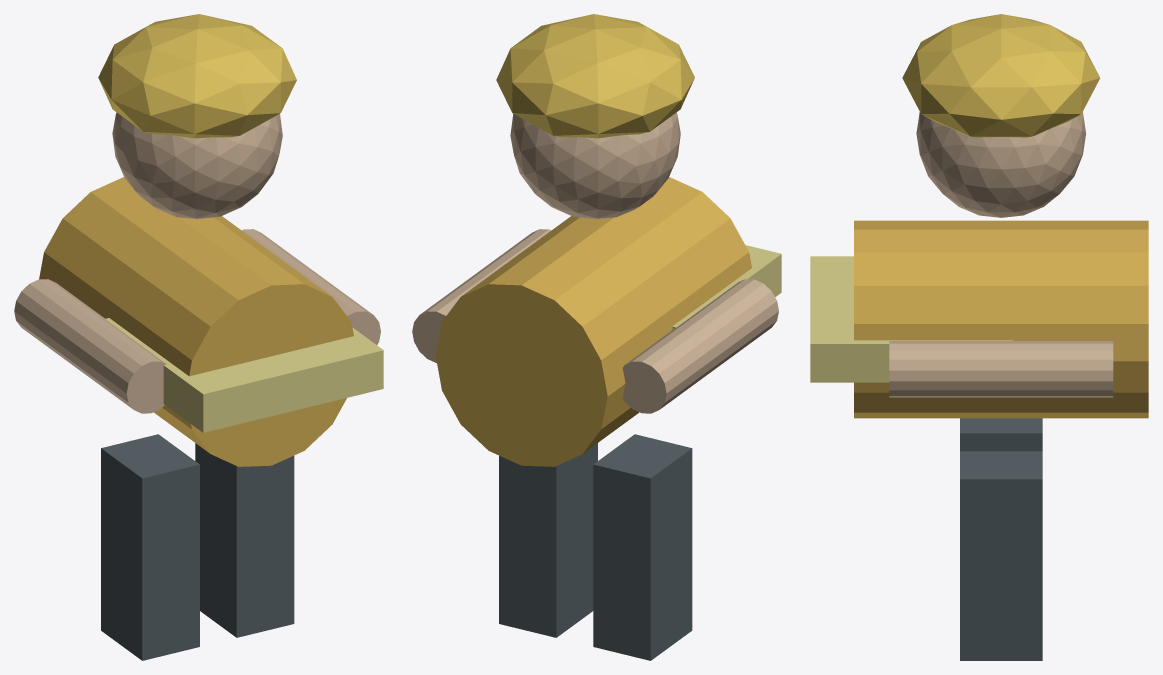
Rendered from worker.glb.
The picture shows the model from 3 angles, left to right: view 1: azimuth 30°, elevation 25°; view 2: azimuth 150°, elevation 25°; view 3: azimuth 270°, elevation 25°; orthographic projection.
Parts seen in each view (by area): view 1: torso, leg-1, helmet, leg1, vest, head, arm-1, arm1; view 2: torso, leg-1, helmet, leg1, head, arm-1, arm1, vest; view 3: torso, helmet, leg1, arm1, head, vest, leg-1.
Boxes of the visible parts, box(x1,y1,x2,y2) form: torso: box(39, 177, 353, 466); leg-1: box(101, 434, 199, 660); helmet: box(98, 14, 296, 138); leg1: box(195, 443, 294, 637); vest: box(105, 318, 383, 432); head: box(112, 112, 282, 219); arm-1: box(14, 279, 166, 413); arm1: box(242, 229, 380, 344); torso: box(435, 177, 751, 466); leg-1: box(593, 434, 692, 660); helmet: box(496, 14, 694, 138); leg1: box(499, 443, 597, 637); head: box(510, 112, 680, 219); arm-1: box(622, 279, 778, 413); arm1: box(412, 229, 550, 363); vest: box(672, 245, 781, 329); torso: box(854, 220, 1148, 418); helmet: box(902, 14, 1099, 137); leg1: box(960, 451, 1042, 660); arm1: box(889, 341, 1113, 397); head: box(916, 112, 1086, 217); vest: box(810, 256, 1012, 382); leg-1: box(960, 418, 1042, 451).
Bounding box in the file's own units: 1.24 × 2.79 × 1.44.
